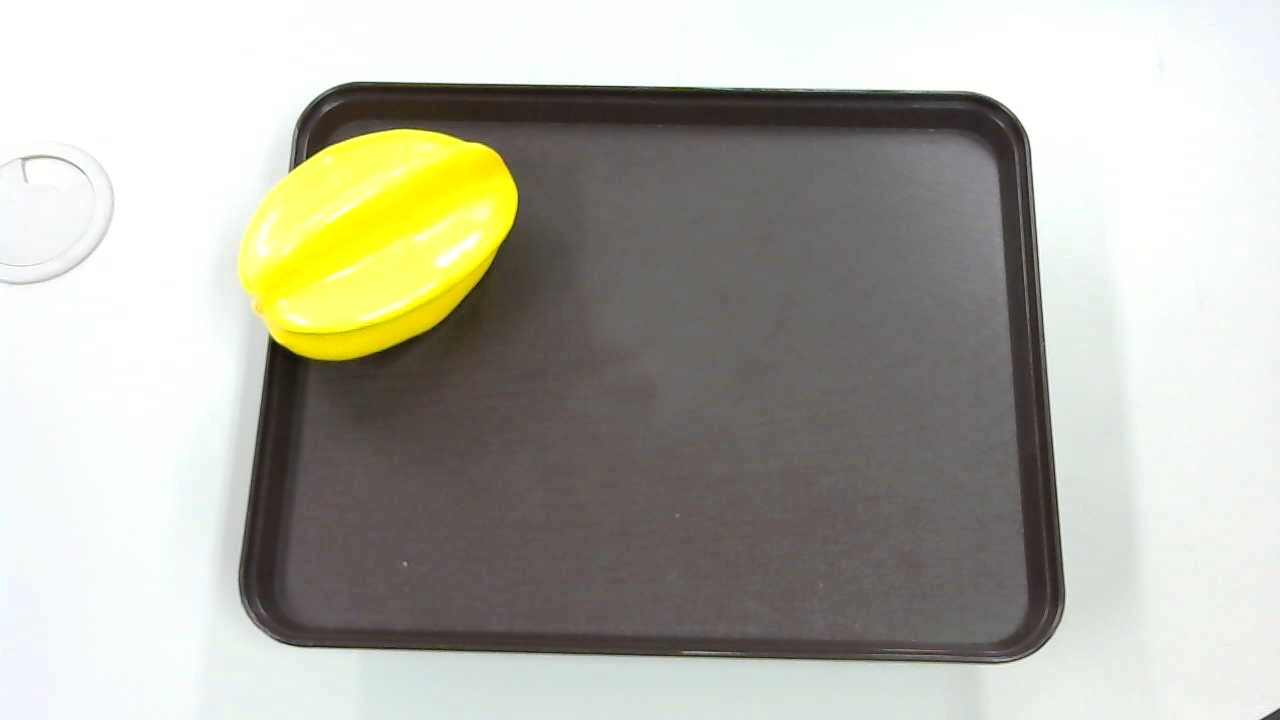star fruit: (229, 129, 518, 368)
